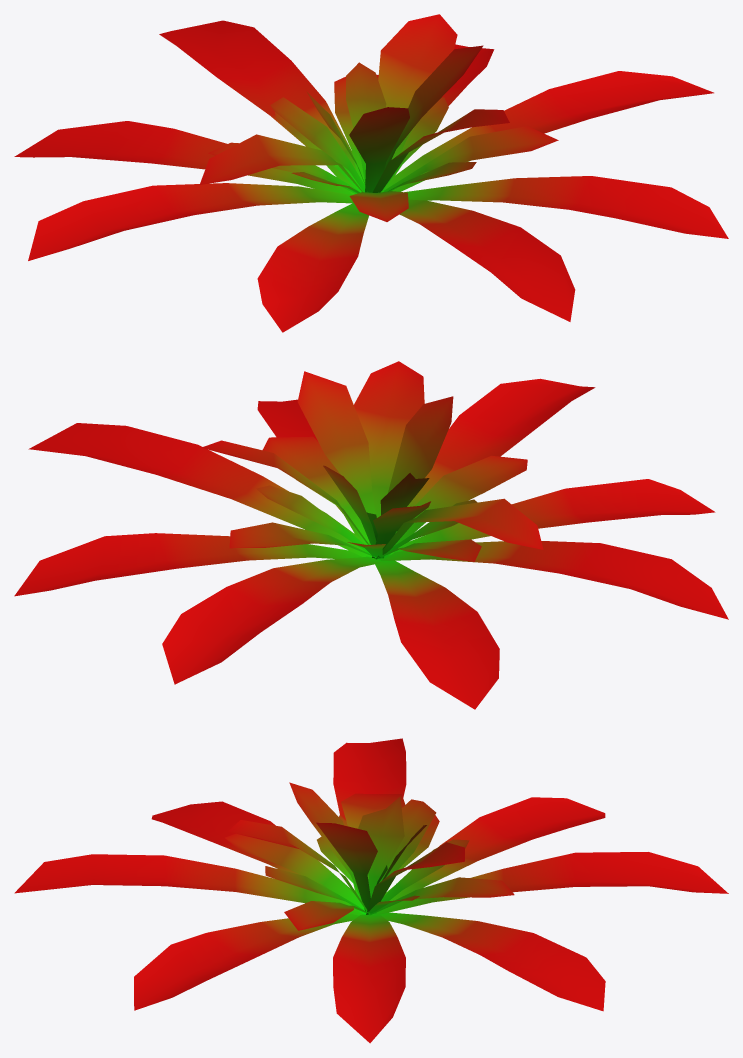
The model's file is Var14_LOD1.fbx.
The picture shows the model from 3 angles, top to bottom: view 1: azimuth 30°, elevation 25°; view 2: azimuth 150°, elevation 25°; view 3: azimuth 270°, elevation 25°; orthographic projection. The views are drawn at different scales.
Visible parts, largest first — view 1: _anbj_Var14_LOD1; view 2: _anbj_Var14_LOD1; view 3: _anbj_Var14_LOD1.
Boxes of the visible parts, box(x1,y1,x2,y2) form: _anbj_Var14_LOD1: box(14, 14, 728, 332); _anbj_Var14_LOD1: box(14, 361, 728, 709); _anbj_Var14_LOD1: box(14, 738, 728, 1043).
Size of the model in its own units: 29.79 by 6.33 by 29.95.
